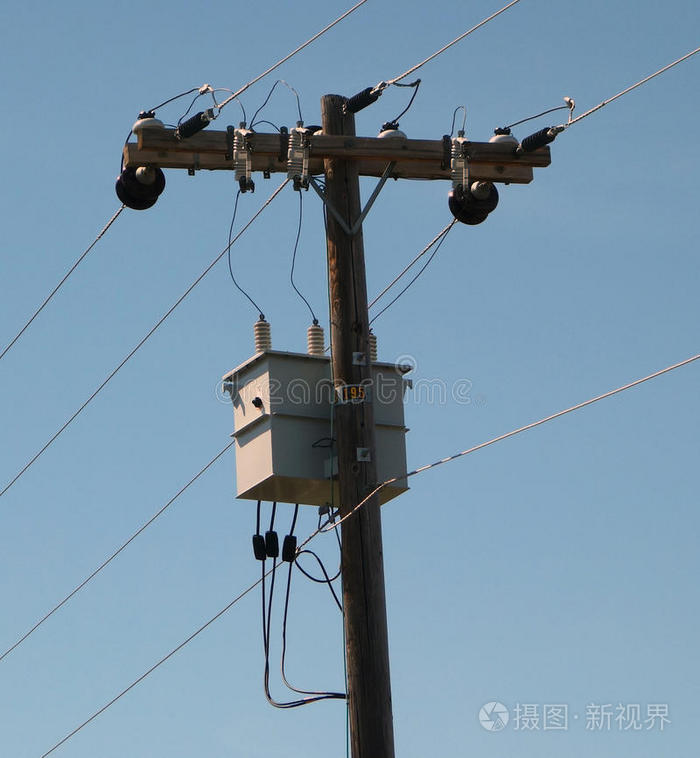insulator: (448, 179, 504, 223), (115, 162, 163, 213)
